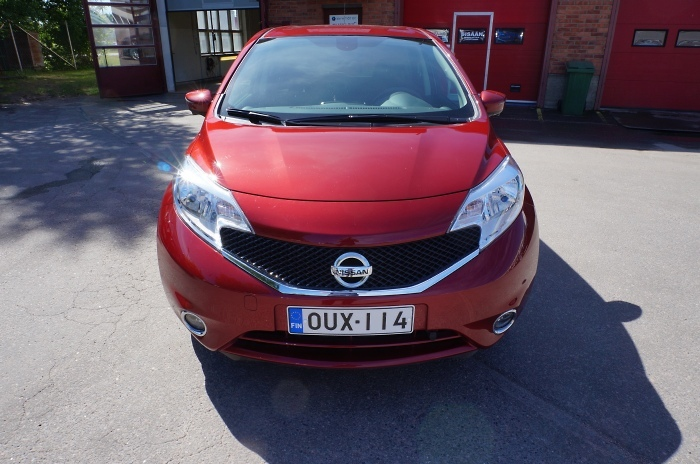license: (284, 304, 418, 339)
